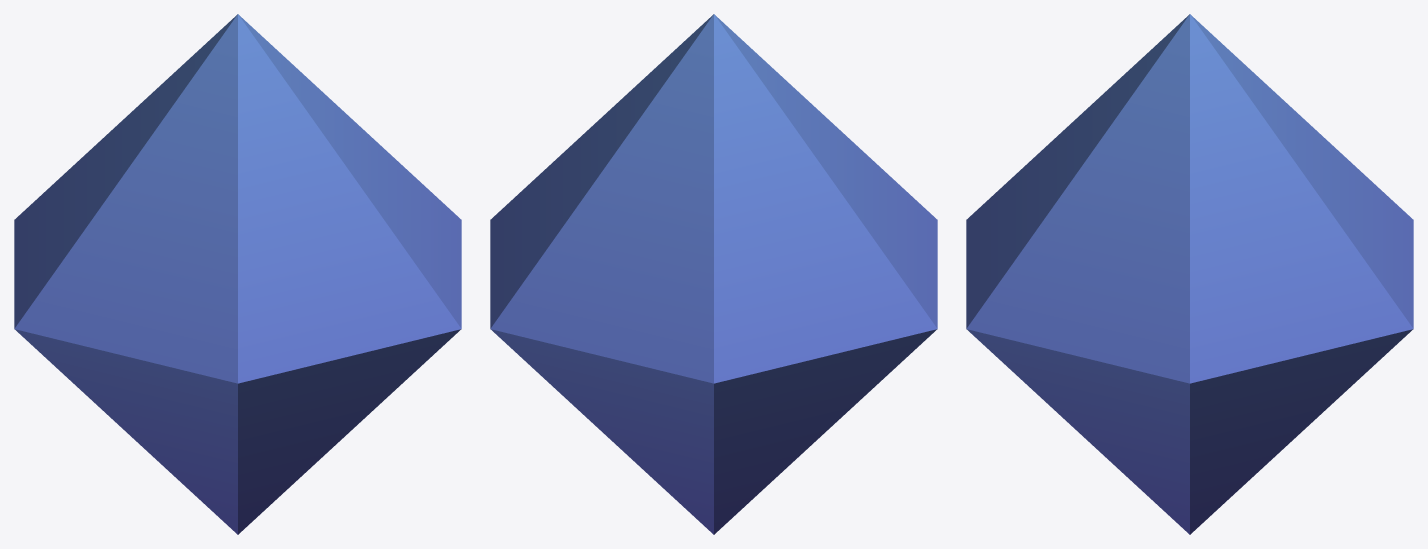
Rendered from jewel.glb.
3 renders of one model, left to right at view 1: azimuth 30°, elevation 25°; view 2: azimuth 150°, elevation 25°; view 3: azimuth 270°, elevation 25°, orthographic.
Parts seen in each view (by area): view 1: jewel; view 2: jewel; view 3: jewel.
Part boxes in pixels (box(x1,y1,x2,y2)): jewel: box(14, 14, 461, 534); jewel: box(490, 14, 937, 534); jewel: box(966, 14, 1413, 534).
Bounding box in the file's own units: 0.3329 × 0.3705 × 0.2883.
1 material, 1 textured.
